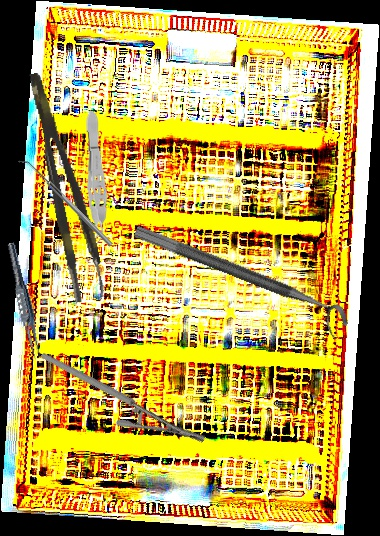Fixation Ring: (126, 223, 353, 342)
Needle Holder: (39, 310, 208, 484)
Spatula Surgical: (18, 155, 113, 250)
Tissue Forceps: (26, 68, 108, 303), (2, 241, 46, 362), (80, 110, 110, 250)
